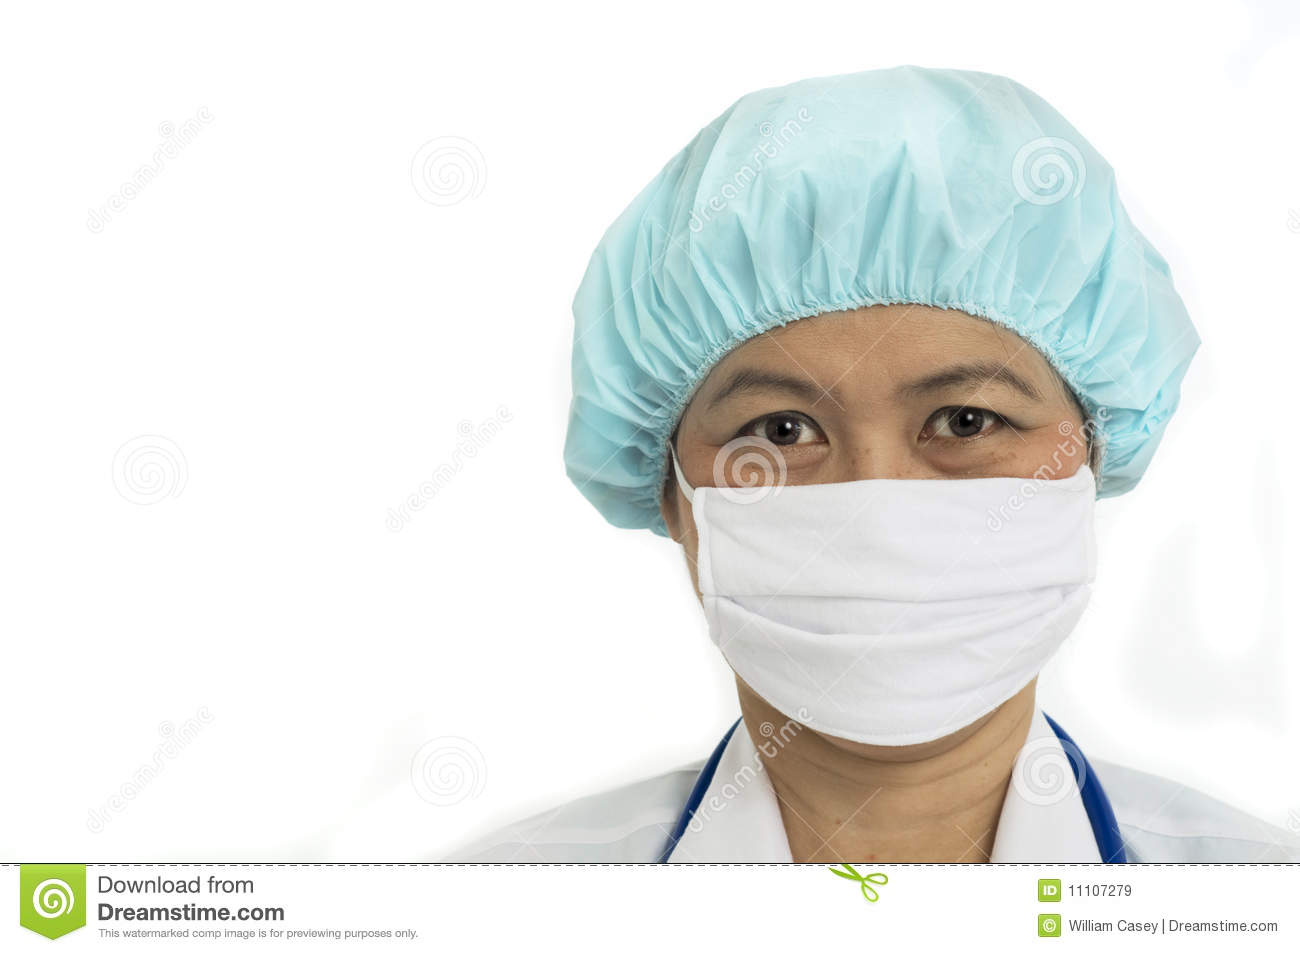mask: (683, 483, 1120, 755)
